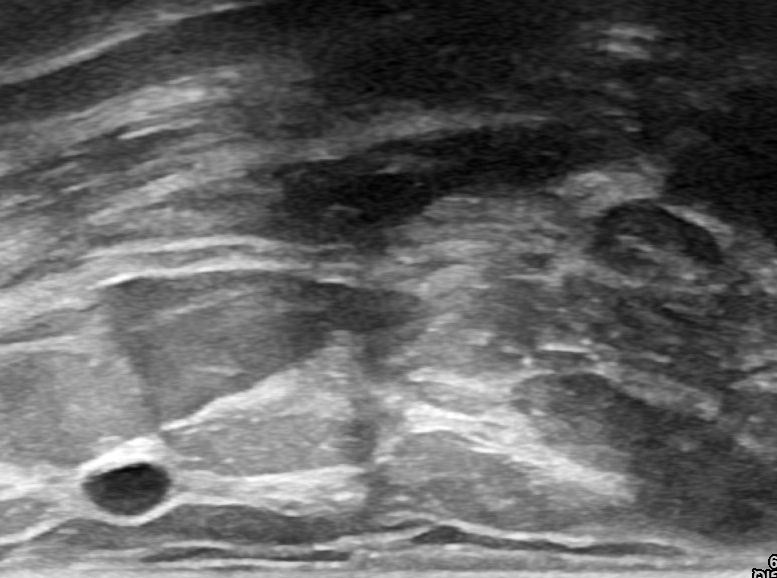Benign: (84, 455, 177, 530)
